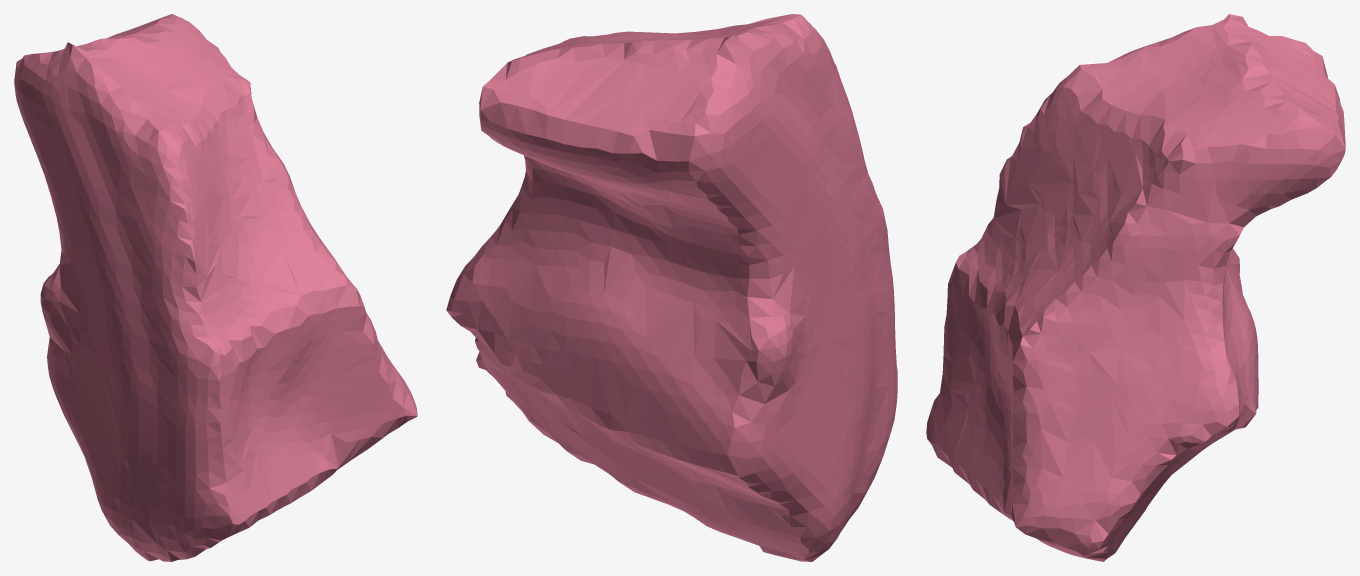
The model's file is Model_10076_LH__Auditory_cortex__anterolateral_area_(AuAL).obj.
3 views of the same model, side by side, from view 1: azimuth 30°, elevation 25°; view 2: azimuth 150°, elevation 25°; view 3: azimuth 270°, elevation 25° (orthographic). The views are drawn at different scales.
Bounding box in the file's own units: 2.12 × 3.16 × 2.4.
